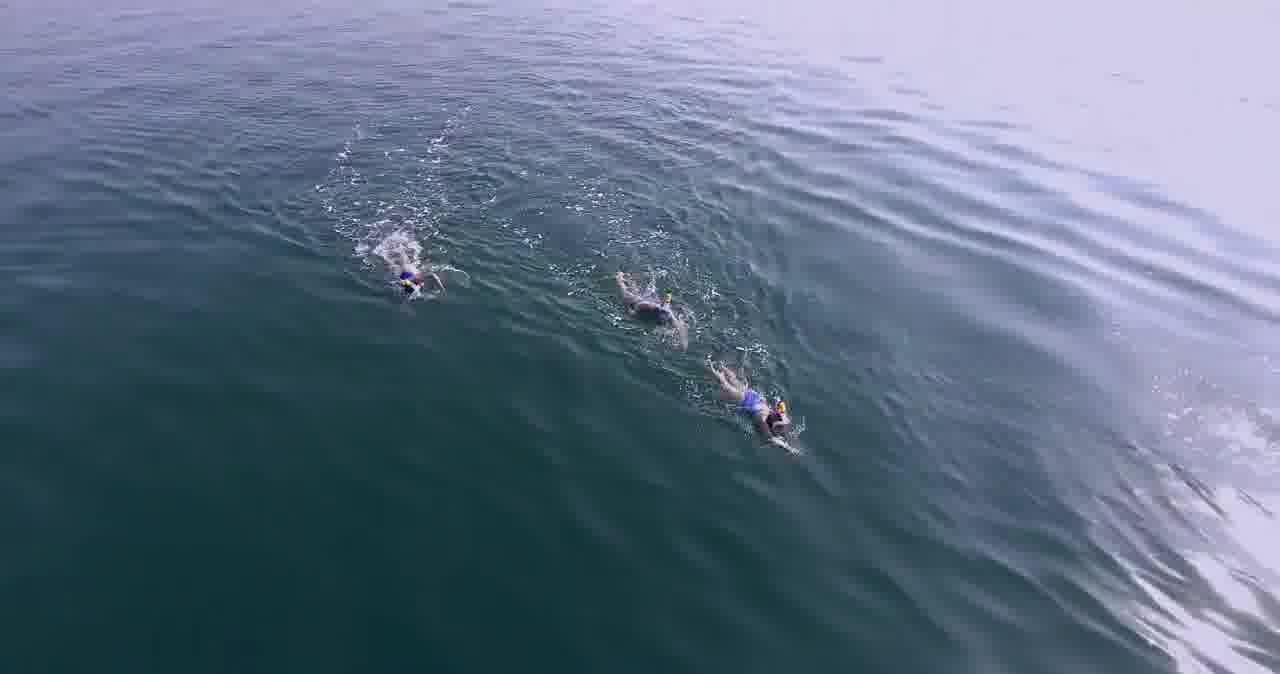swimmer: (702, 366, 808, 446), (614, 282, 697, 344)
